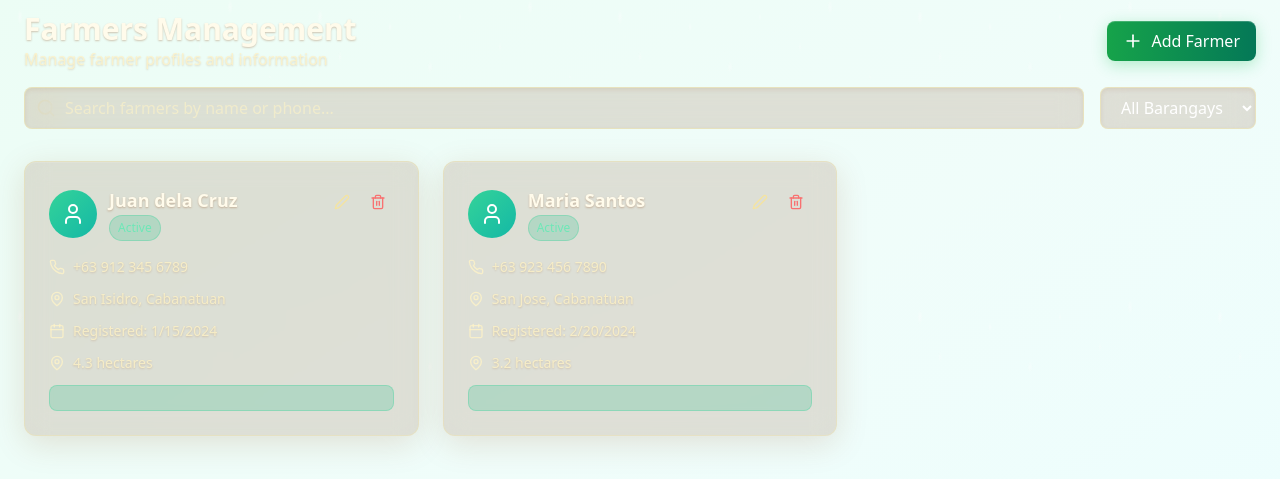
Test: FarmersManager › Search and Filter › filters farmers by name
In the field with placeholder "Search farmers by name or phone...": point(554, 108) x1=24 y1=87 x2=1084 y2=129, type "Juan"
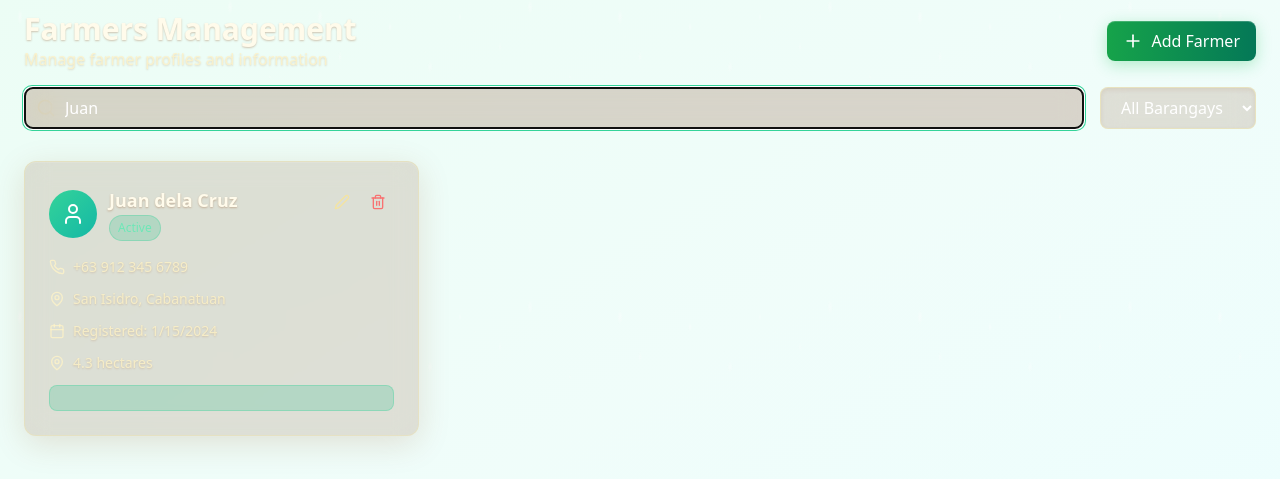
Check: the heading "Juan dela Cruz" is shown, box x1=109 y1=186 x2=238 y2=214
Check: the heading "Maria Santos" is gone
